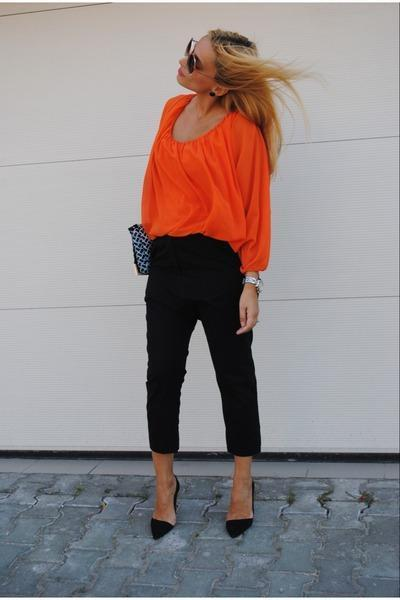bag: (128, 224, 165, 274)
pants: (132, 233, 259, 461)
shirt: (140, 96, 271, 272)
shoe: (141, 511, 252, 539)
